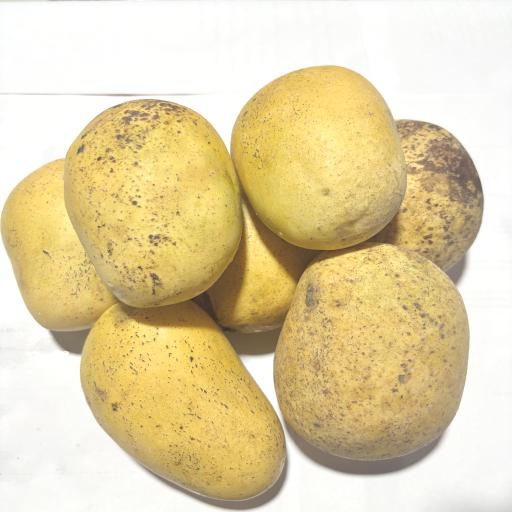fruit: (68, 274, 292, 512), (271, 229, 475, 477), (62, 90, 246, 312), (226, 56, 412, 258), (0, 140, 113, 334), (364, 111, 494, 274), (200, 189, 314, 334)
